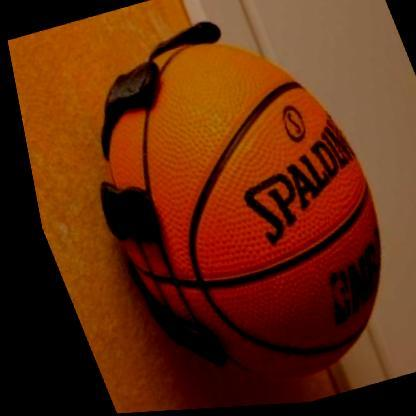basketball: (38, 1, 416, 414)
